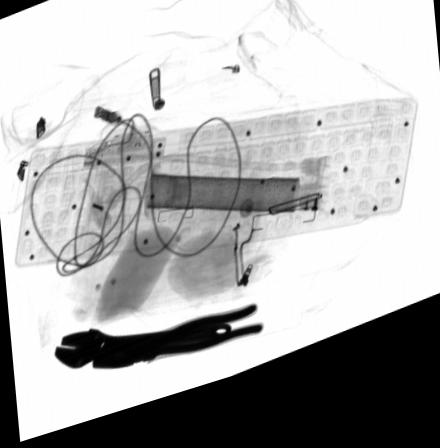Pliers: (90, 316, 262, 376)
Wrench: (53, 331, 231, 373)
